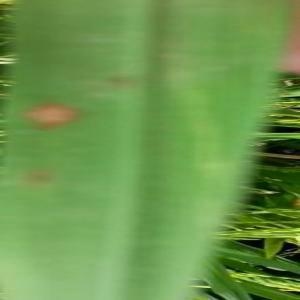1 RiceBlast: (19, 74, 85, 137)
